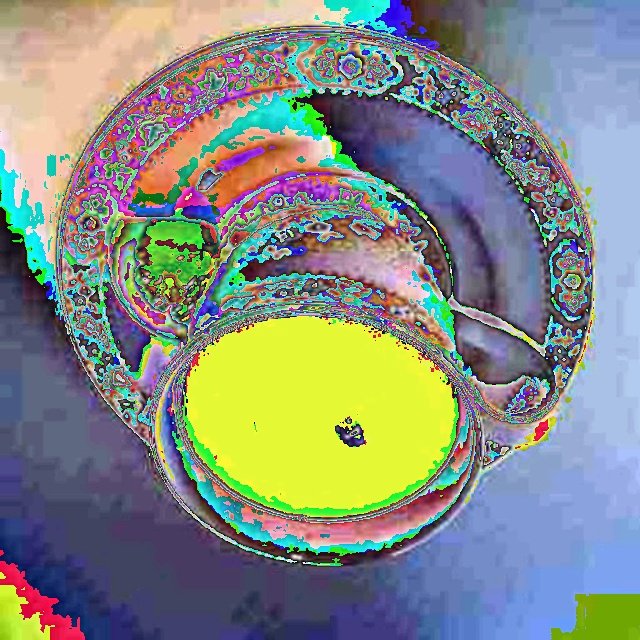background: (177, 211, 462, 525), (107, 127, 219, 344)
